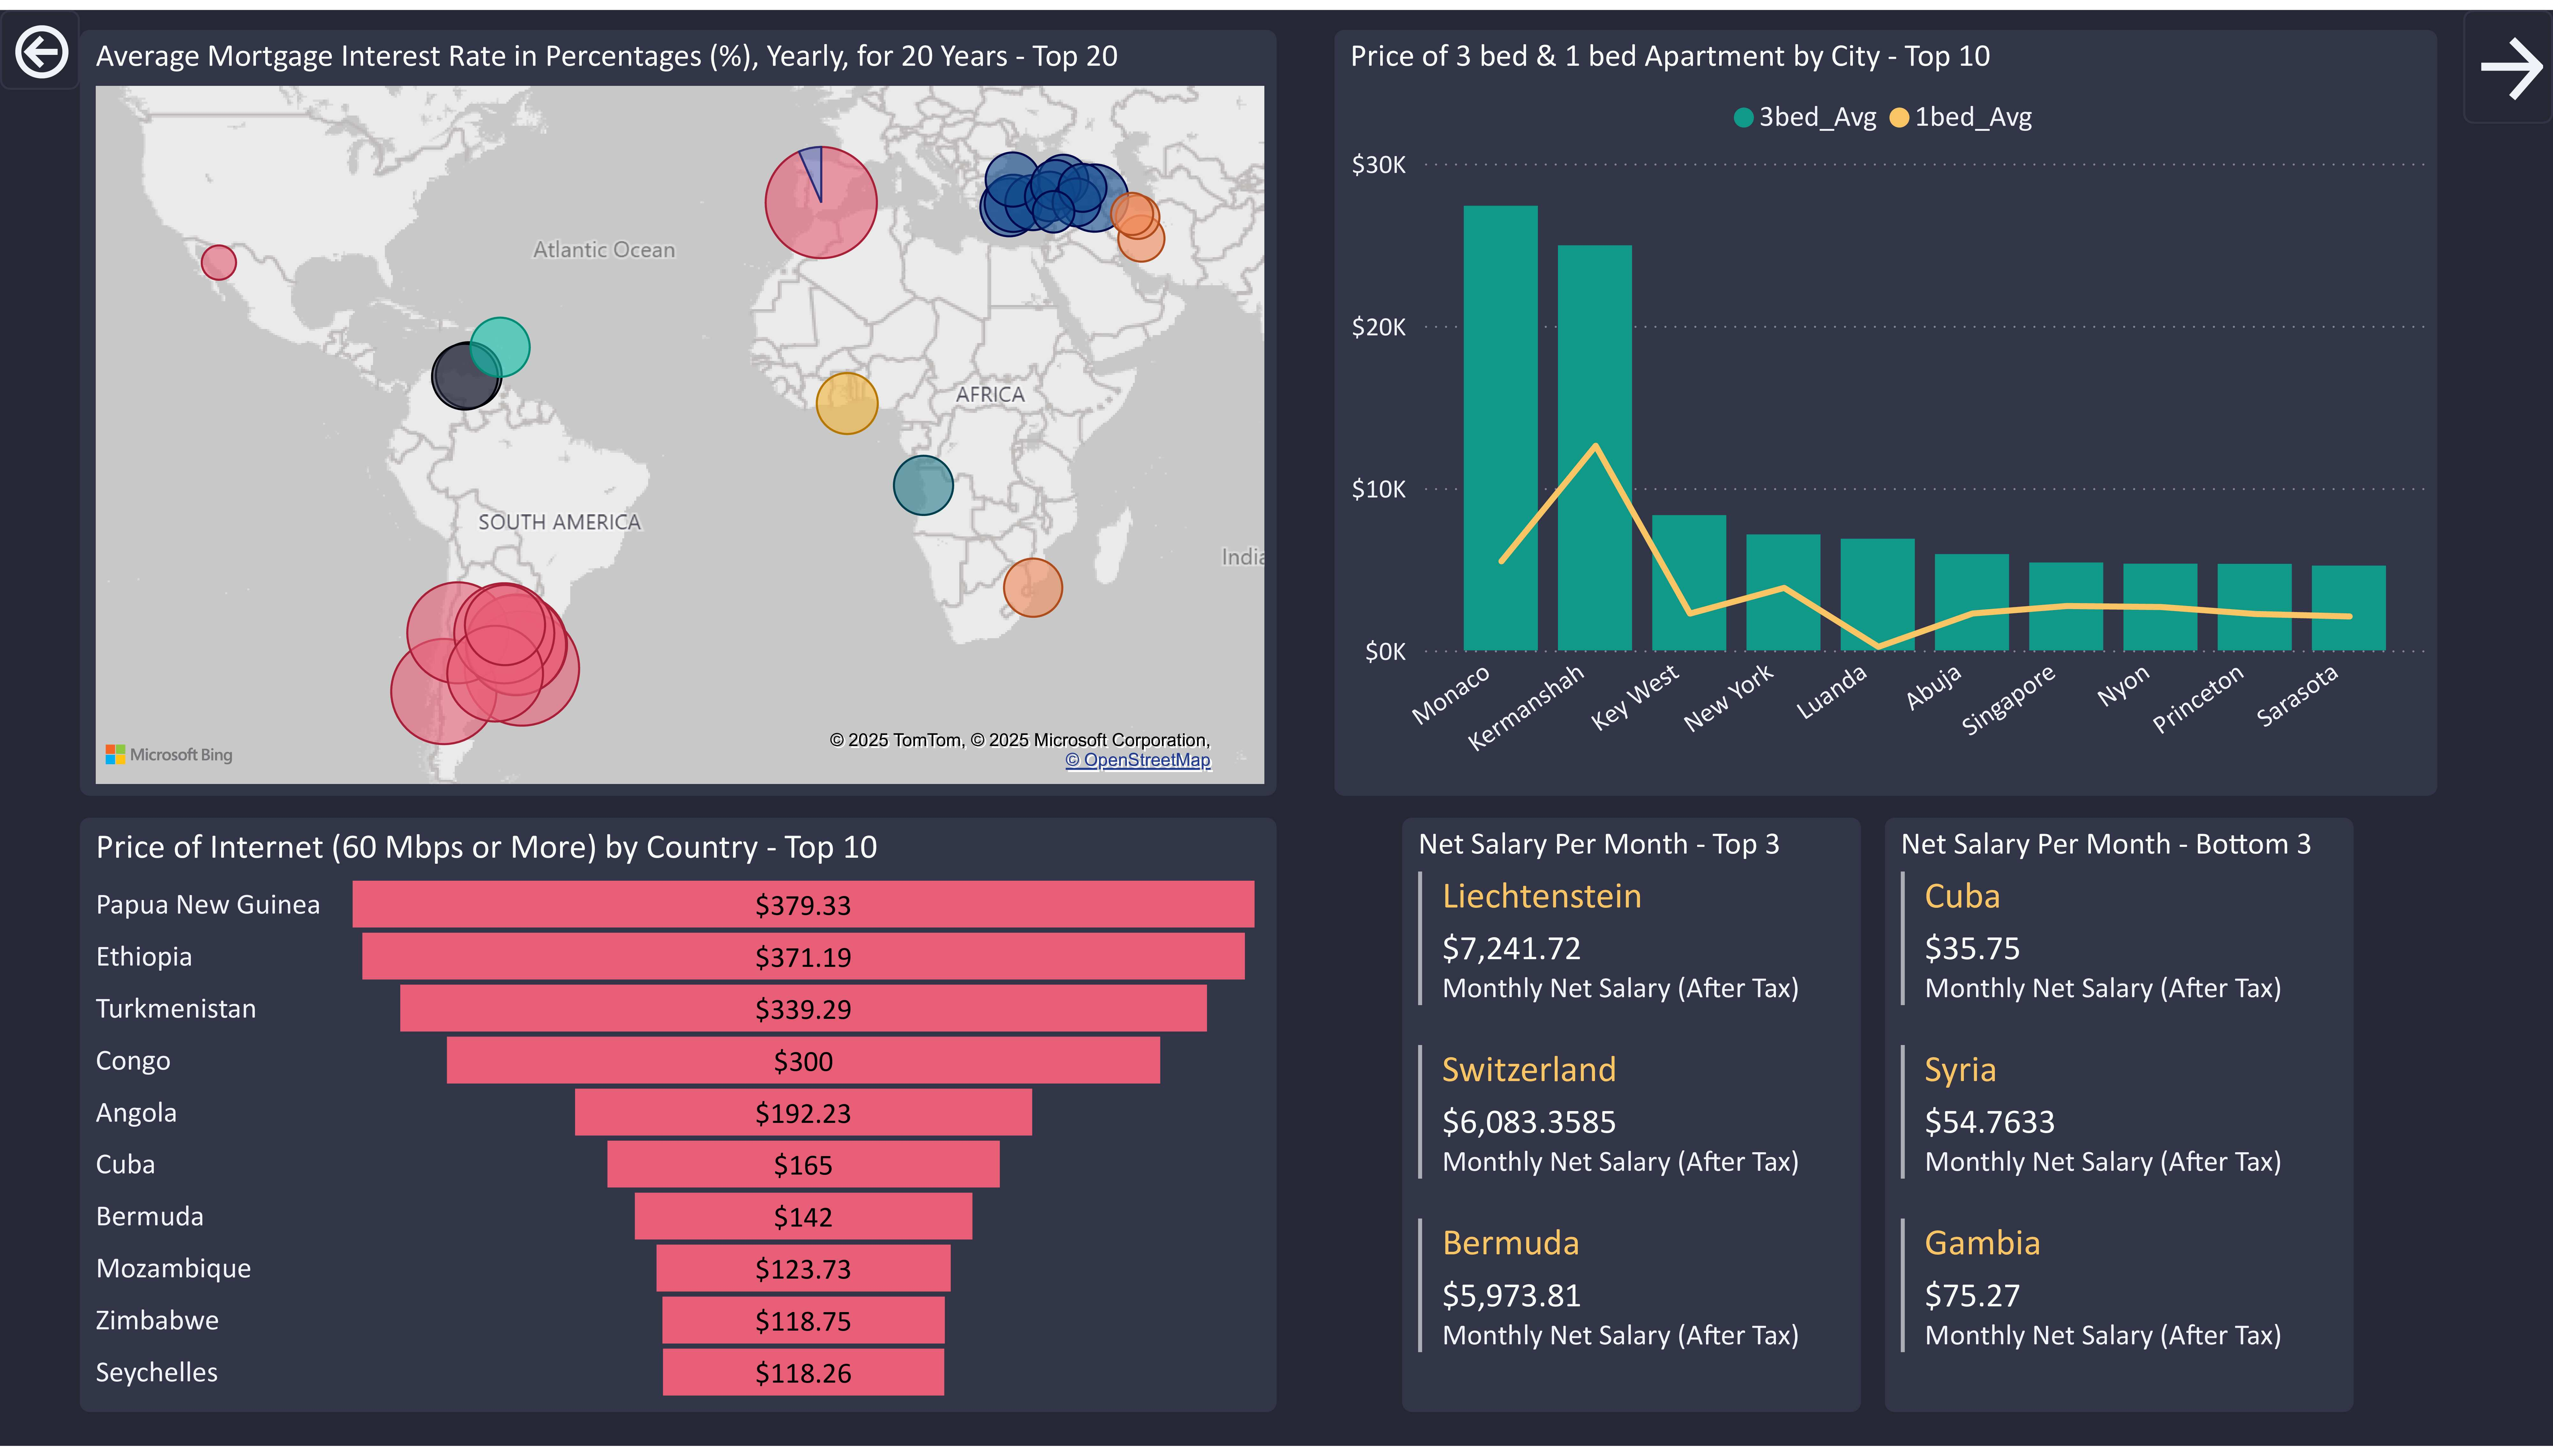

Layout of this report page (visuals, bound fields, positions):
{"tool":"powerbi","page":{"name":"Others","canvas":[1280,720],"ordinal":4},"visuals":[{"type":"map","title":"Average Mortgage Interest Rate in Percentages (%), Yearly, for 20 Years - Top 20","fields":{"Category":["cost-of-living_v2.city"],"Series":["cost-of-living_v2.country"],"Size":["Avg(cost-of-living_v2.Mortgage Interest Rate in Percentages (%), Yearly, for 20 Years Fixed-Rate)"]},"box":[40,10,600,384.3],"z":0},{"type":"funnel","title":"Price of Internet (60 Mbps or More) by Country - Top 10","fields":{"Category":["cost-of-living_v2.country"],"Y":["Avg(cost-of-living_v2.Internet (60 Mbps or More, Unlimited Data, Cable/ADSL) (USD))"]},"box":[40,405,600,298.3],"z":1000},{"type":"lineClusteredColumnComboChart","title":"Price of 3 bed & 1 bed Apartment by City - Top 10","fields":{"Category":["cost-of-living_v2.city"],"Y":["cost-of-living_v2.3bed_Avg"],"Y2":["cost-of-living_v2.1bed_Avg"]},"box":[668.6,10,552.9,384.3],"z":2000},{"type":"multiRowCard","title":"Net Salary Per Month - Top 3","fields":{"Values":["cost-of-living_v2.country","Avg(cost-of-living_v2.Average Monthly Net Salary (After Tax) (USD))"]},"box":[703.3,405,230,298.3],"z":3000},{"type":"actionButton","box":[0,0,40,40],"z":4000},{"type":"multiRowCard","title":"Net Salary Per Month - Bottom 3","fields":{"Values":["cost-of-living_v2.country","Avg(cost-of-living_v2.Average Monthly Net Salary (After Tax) (USD))"]},"box":[945,405,235,298.3],"z":5000},{"type":"actionButton","box":[1235,0,45,56.7],"z":6000}]}

Visuals, with their boxes in screenshot pixels (x1, y1, x2, y2), scaled from the page's 1280x720 canvas onto the 2553x1456 screenshot:
"Average Mortgage Interest Rate in Percentages (%), Yearly, for 20 Years - Top 20" map: <bbox>80, 20, 1276, 797</bbox>
"Price of Internet (60 Mbps or More) by Country - Top 10" funnel: <bbox>80, 819, 1276, 1422</bbox>
"Price of 3 bed & 1 bed Apartment by City - Top 10" lineClusteredColumnComboChart: <bbox>1334, 20, 2436, 797</bbox>
"Net Salary Per Month - Top 3" multiRowCard: <bbox>1403, 819, 1861, 1422</bbox>
actionButton: <bbox>0, 0, 80, 81</bbox>
"Net Salary Per Month - Bottom 3" multiRowCard: <bbox>1885, 819, 2354, 1422</bbox>
actionButton: <bbox>2463, 0, 2553, 115</bbox>
